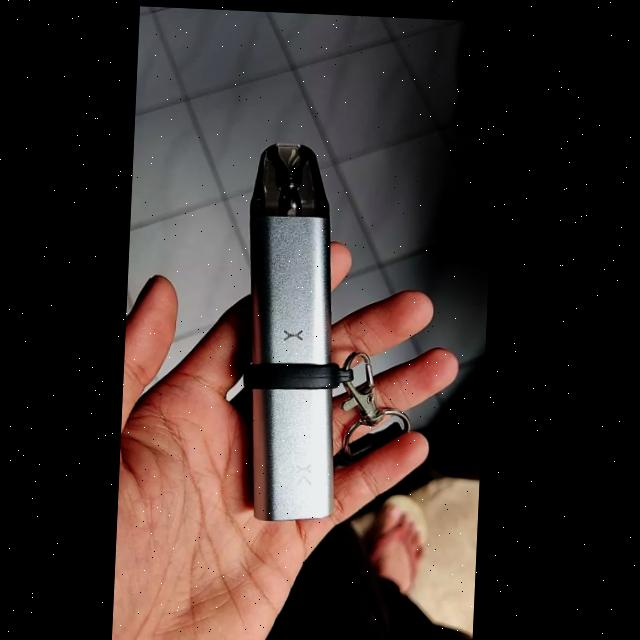vape: (239, 134, 351, 517)
